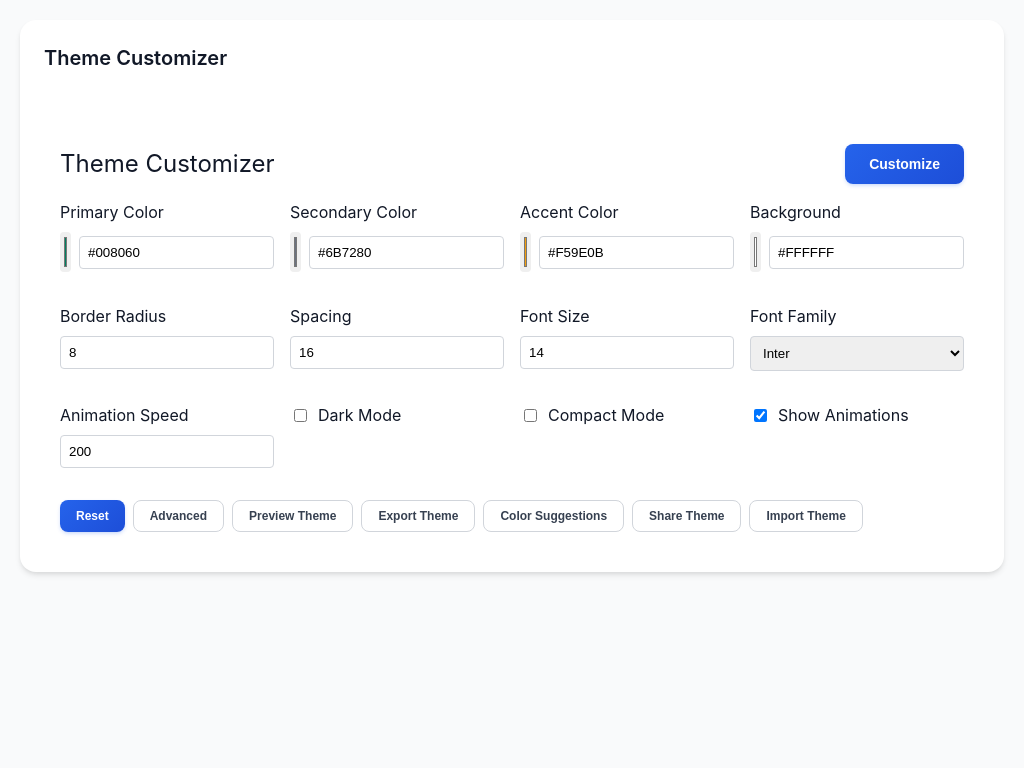
Test: ThemeCustomizer › should open and close advanced modal
The width and height of the screenshot is (1024, 768).
Click the button "Advanced" at (178, 516), box x1=133 y1=500 x2=224 y2=532
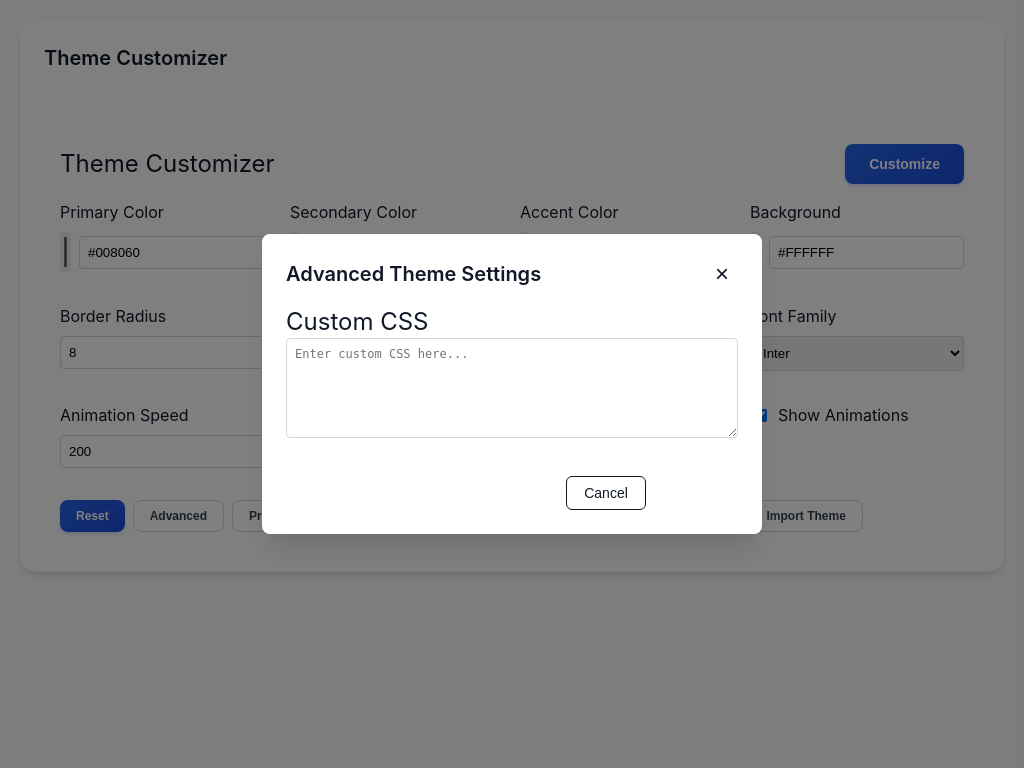
Expected: the heading "Advanced Theme Settings" is shown, x1=286 y1=259 x2=541 y2=289
Expected: the button "Cancel" is shown
Click the button "Cancel" at (606, 493), box x1=566 y1=476 x2=646 y2=510
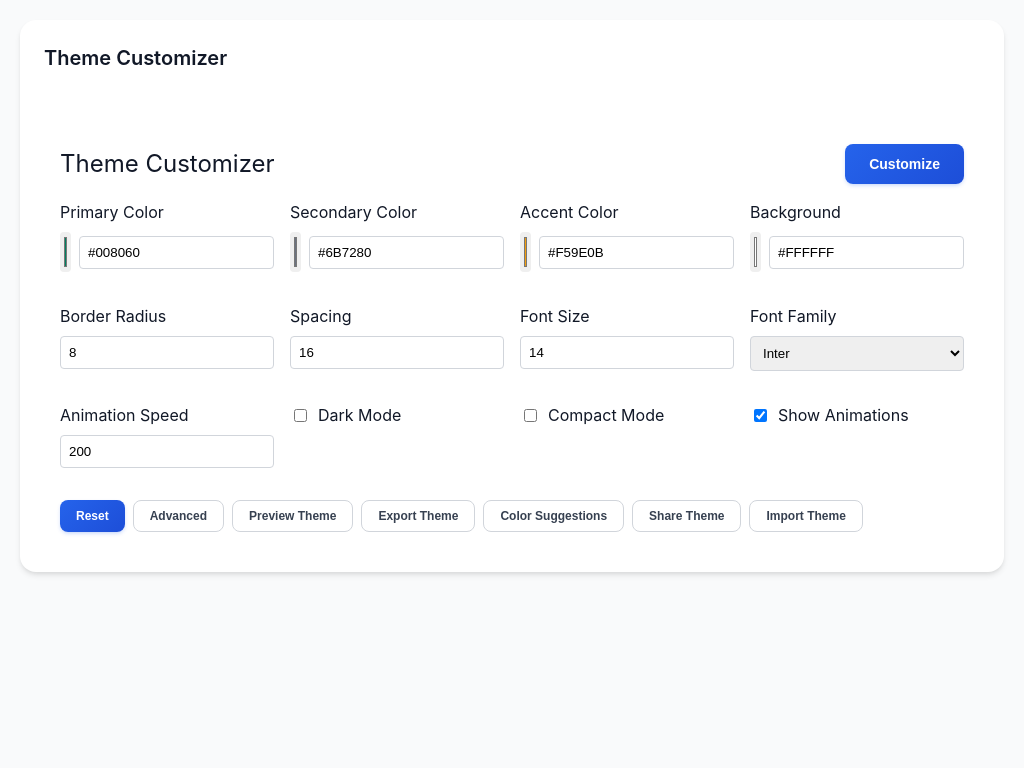
Expected: the heading "Advanced Theme Settings" is gone
